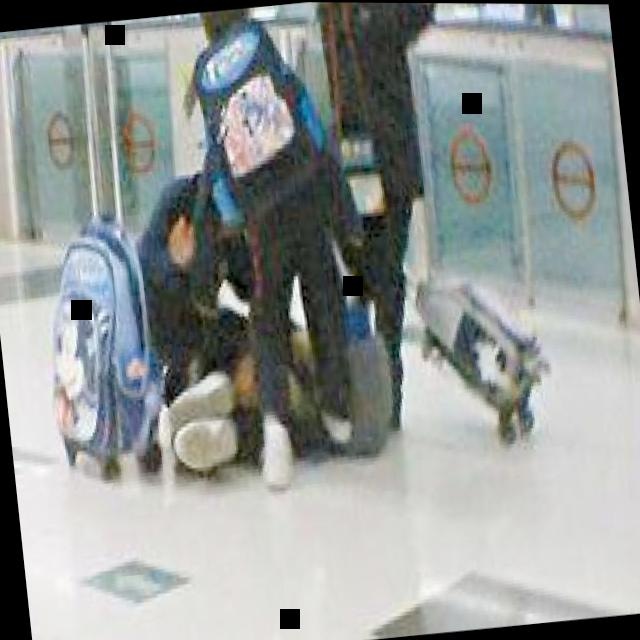Fall-Detected: (117, 266, 331, 488)
